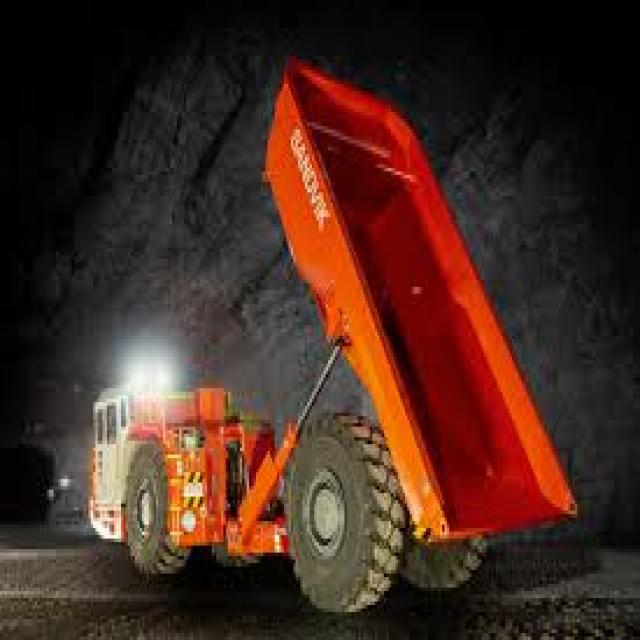dump_truck: (57, 45, 580, 612)
